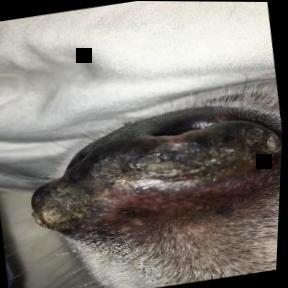keratosis: (18, 105, 285, 246)
